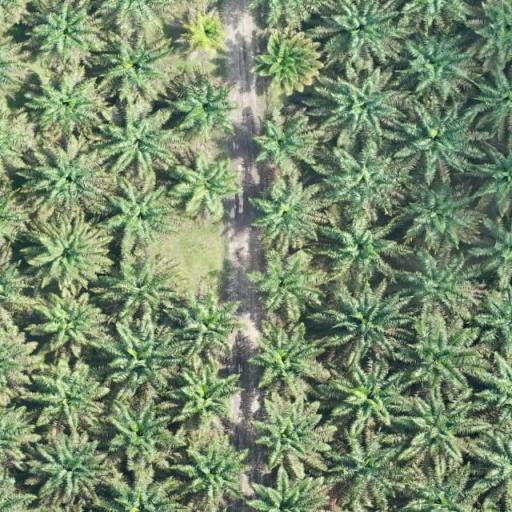Ganoderma: (187, 16, 224, 49)
